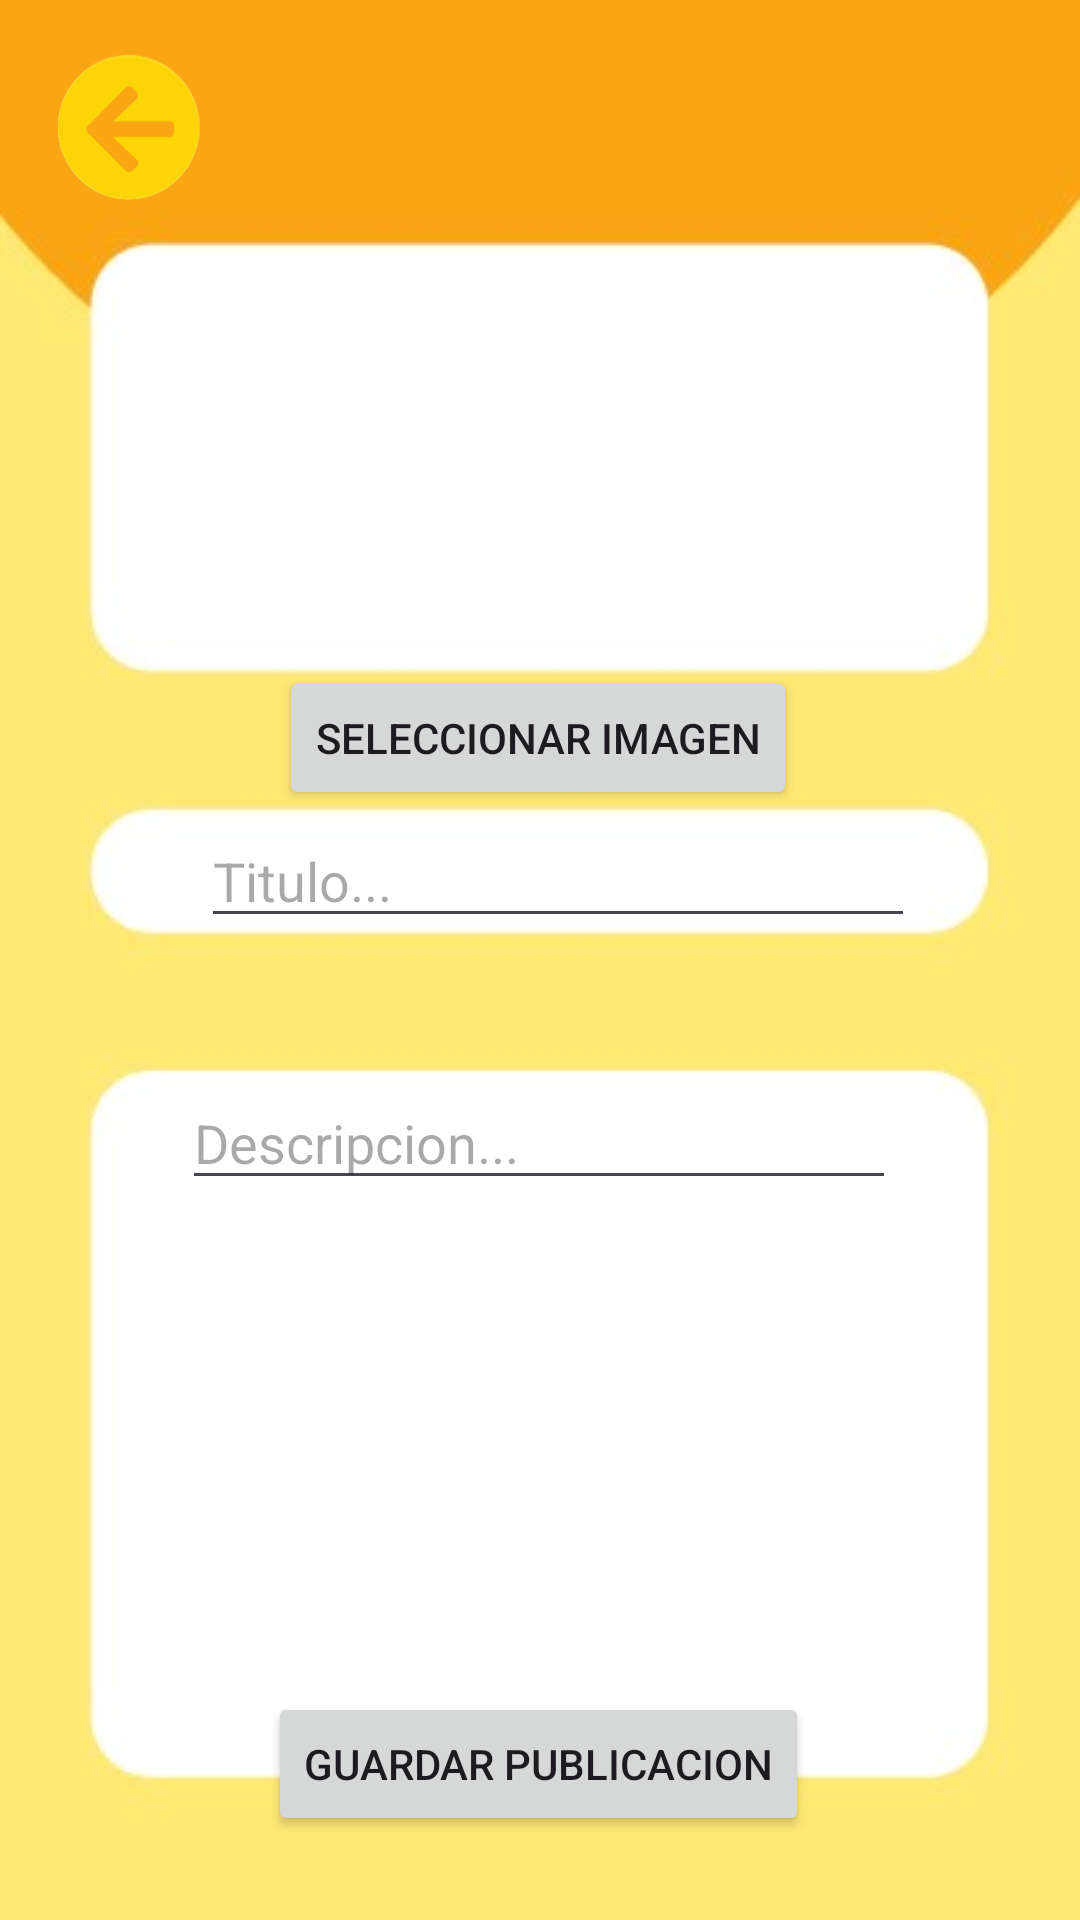

Icons on this 1080*1920 Android screen, each with its box as [x1=x1, y1=y1, x2=x2, y2=y2]:
btnvolver: [x1=58, y1=55, x2=200, y2=200]
